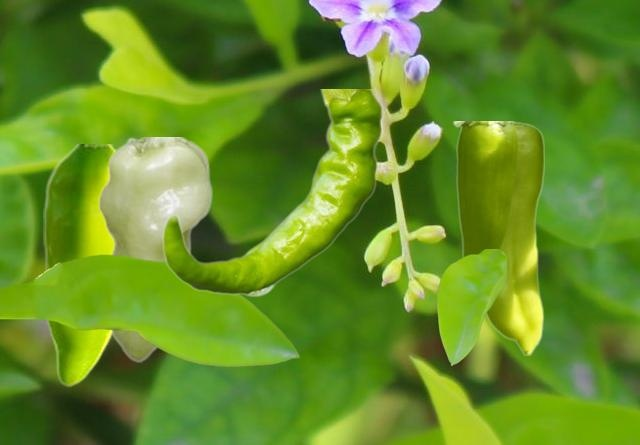green_chili: (162, 89, 383, 296), (95, 137, 211, 361), (452, 121, 543, 354), (43, 144, 117, 386)
